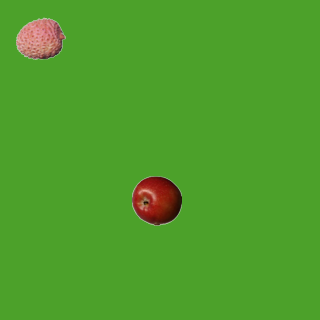Apple Braeburn: (131, 175, 181, 225)
Lychee: (15, 13, 65, 63)
